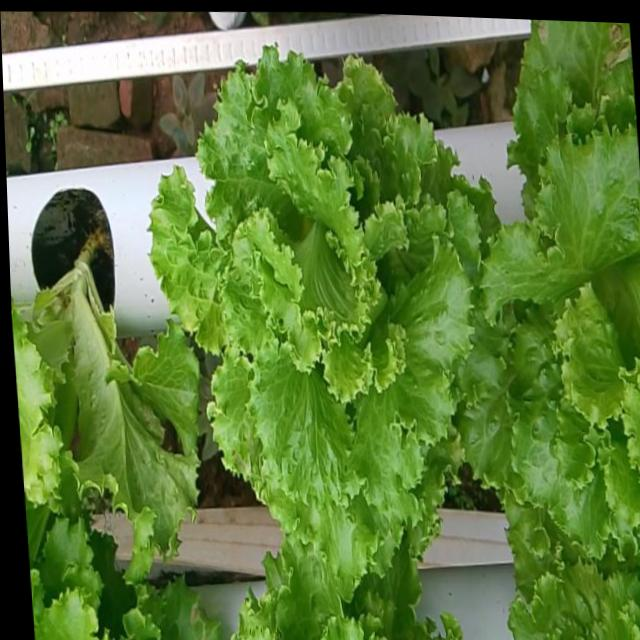Mature: (146, 32, 479, 571), (457, 109, 640, 552)
